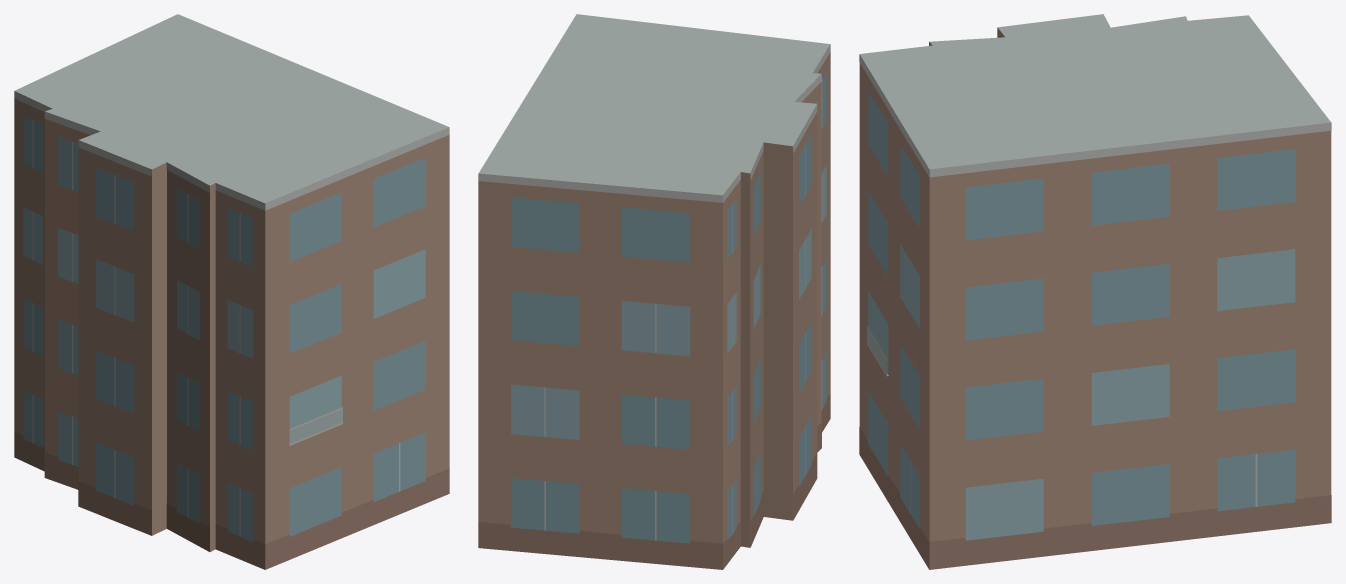
Rendered from survey-upis-33046741.glb.
3 renders of one model, left to right at view 1: azimuth 30°, elevation 25°; view 2: azimuth 150°, elevation 25°; view 3: azimuth 270°, elevation 25°, orthographic. The views are drawn at different scales.
Visible parts, largest first — view 1: survey-upis-33046741.tmp; view 2: survey-upis-33046741.tmp; view 3: survey-upis-33046741.tmp.
Part boxes in pixels (<box>): survey-upis-33046741.tmp: <box>14,14,449,569</box>; survey-upis-33046741.tmp: <box>478,14,830,569</box>; survey-upis-33046741.tmp: <box>859,14,1331,569</box>.
Bounding box in the file's own units: 10.17 × 12.2 × 13.04.
